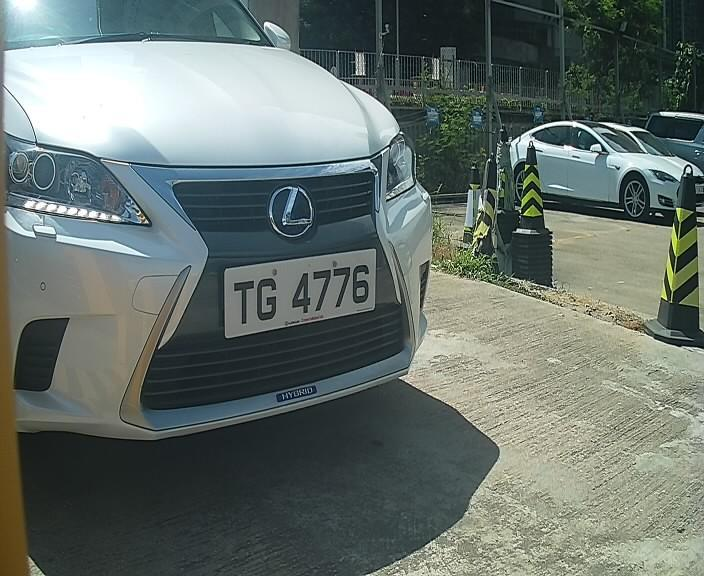privatecar: (19, 13, 459, 466)
